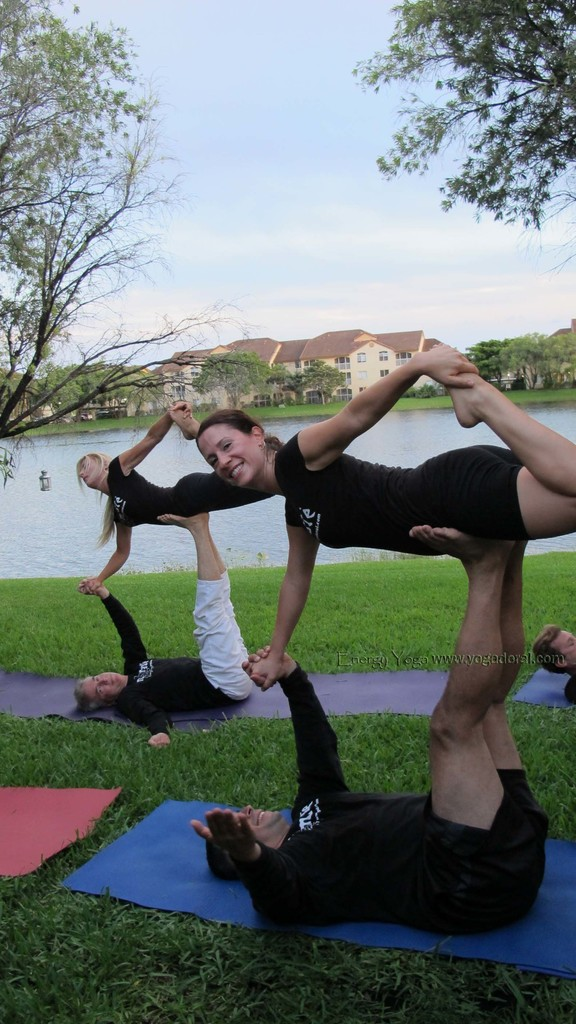Person: (194, 340, 574, 691), (78, 400, 288, 597)
